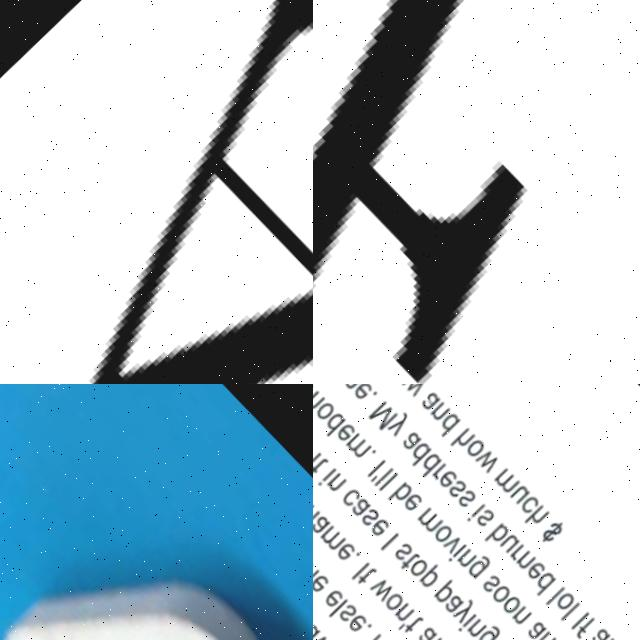A: (0, 0, 313, 384), (444, 589, 469, 614), (401, 426, 426, 450), (528, 616, 552, 640), (351, 494, 375, 517), (420, 387, 443, 411), (417, 620, 444, 640), (591, 621, 617, 640), (313, 511, 334, 534), (313, 620, 324, 640)
B: (486, 518, 514, 547), (389, 479, 416, 505)
C: (519, 490, 544, 514), (341, 484, 365, 508)
D: (417, 448, 445, 477), (320, 408, 348, 436), (405, 438, 433, 466), (532, 567, 560, 595), (435, 408, 463, 436)
E: (324, 584, 349, 609), (370, 513, 395, 538), (402, 487, 427, 512), (437, 464, 462, 489), (347, 609, 372, 633), (336, 537, 361, 561), (334, 419, 359, 443), (527, 556, 551, 579), (313, 569, 334, 594), (351, 384, 376, 401)
F: (313, 0, 640, 384), (576, 612, 601, 637), (424, 632, 448, 640)
G: (468, 551, 495, 577), (478, 619, 506, 640)
H: (450, 423, 478, 451), (524, 501, 552, 528)
I: (448, 540, 471, 562), (461, 608, 482, 630), (380, 529, 401, 551), (318, 464, 339, 485), (353, 559, 373, 579), (468, 500, 487, 520), (369, 457, 389, 476), (574, 608, 594, 627), (313, 449, 324, 469), (365, 631, 385, 640)
L: (375, 464, 395, 485), (331, 596, 351, 616), (380, 470, 400, 489), (548, 584, 568, 603), (563, 599, 582, 618)
M: (367, 397, 400, 429), (320, 521, 350, 551), (493, 463, 523, 493), (345, 430, 374, 458), (417, 504, 446, 532), (313, 384, 326, 410)
N: (395, 598, 419, 622), (512, 601, 536, 625), (516, 546, 540, 570), (429, 398, 453, 421), (469, 615, 491, 637), (458, 544, 480, 566), (327, 470, 349, 491), (538, 626, 562, 640), (313, 501, 323, 524), (313, 559, 323, 582), (602, 633, 625, 640)
O: (384, 587, 409, 611), (314, 397, 339, 421), (433, 520, 458, 544), (491, 580, 516, 604), (465, 433, 490, 457), (409, 554, 433, 577), (503, 590, 527, 613), (557, 586, 580, 610)
P: (435, 575, 464, 603), (421, 561, 448, 587)
Q: (0, 514, 313, 640)
R: (432, 460, 452, 480), (511, 541, 530, 560)
S: (359, 502, 384, 527), (447, 473, 472, 498), (476, 502, 501, 527), (457, 484, 481, 508), (394, 539, 418, 562), (339, 600, 362, 623), (482, 570, 505, 593)
T: (405, 611, 428, 634), (400, 547, 423, 570), (358, 562, 379, 584), (313, 452, 331, 474)
U: (510, 480, 534, 503), (500, 529, 523, 551)
V: (443, 530, 467, 553), (313, 629, 335, 640)
W: (370, 573, 399, 602), (475, 445, 503, 472), (399, 384, 428, 396)
Y: (454, 594, 483, 623), (385, 408, 415, 436)
